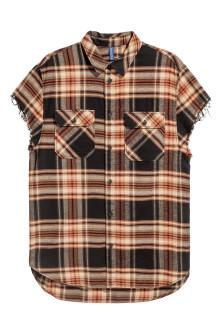teeshirt: (14, 31, 209, 297)
